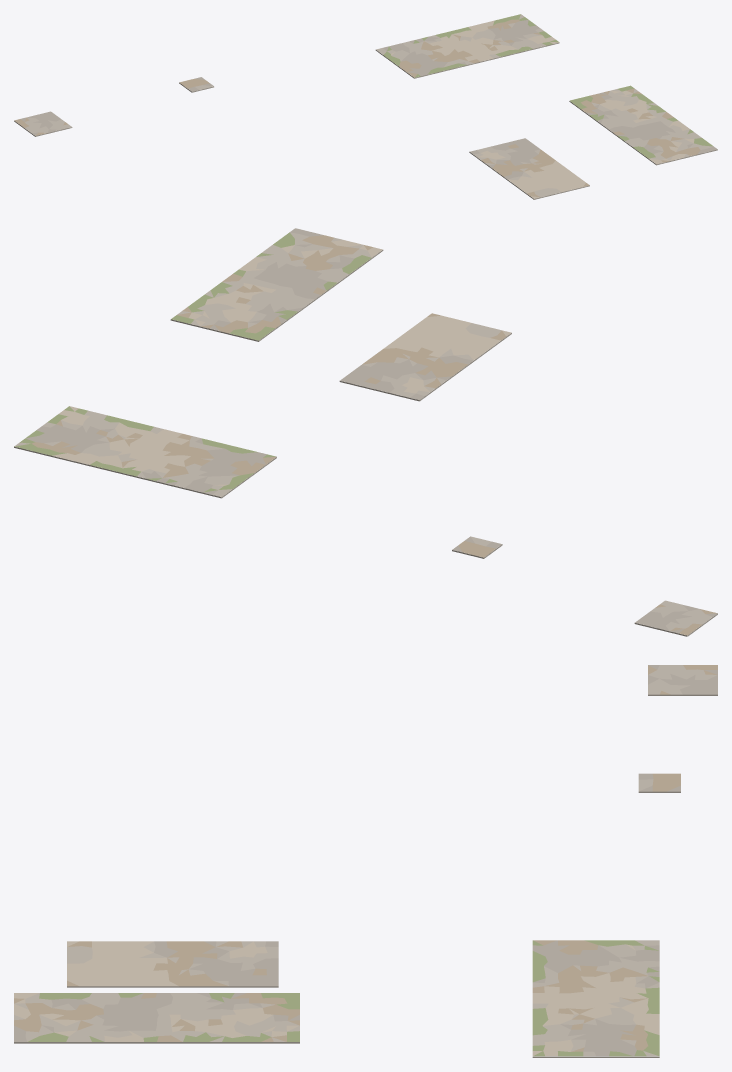
Rendered from srf_terr_tops.glb.
The picture shows the model from 3 angles, top to bottom: view 1: azimuth 30°, elevation 25°; view 2: azimuth 150°, elevation 25°; view 3: azimuth 270°, elevation 25°; orthographic projection. The views are drawn at different scales.
Visible parts, largest first — view 1: srf_terr_tops; view 2: srf_terr_tops; view 3: srf_terr_tops.
Boxes of the visible parts, box(x1,y1,x2,y2) form: srf_terr_tops: box(14, 14, 717, 199); srf_terr_tops: box(14, 228, 717, 636); srf_terr_tops: box(14, 665, 717, 1057).
Size of the model in its own units: 87.52 by 3.65 by 66.52.
